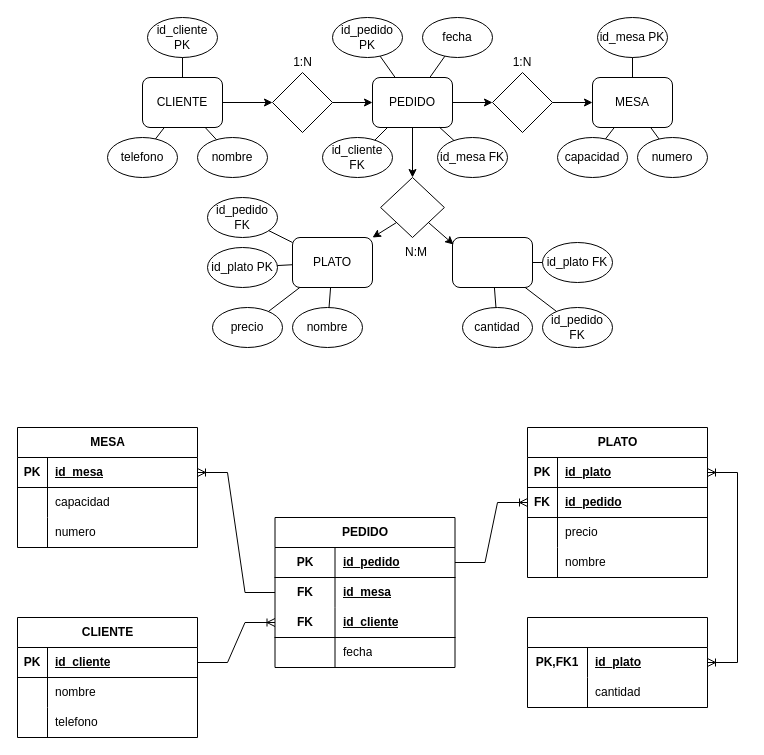
Some shapes in this 764 by 755 pixel diagram are drawn without their labels. The box of each missing label's shape, as (x1, y1, x2, y2) in pixels:
DETALLE PEDIDO: (452, 236, 532, 288)
DETALLES PEDIDO: (526, 616, 708, 708)
Incluye: (380, 176, 444, 238)
Ocupar: (492, 72, 552, 132)
Realiza: (272, 72, 332, 132)
